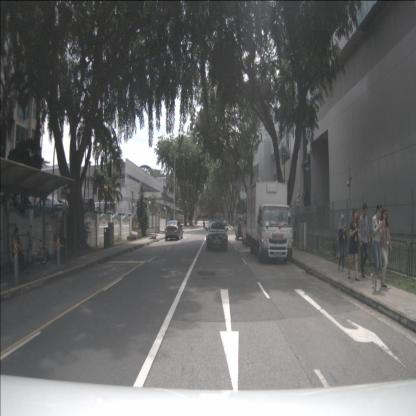human-pedestrian-adult: (370, 204, 386, 292), (379, 207, 392, 287), (348, 209, 360, 281), (359, 203, 370, 278), (12, 227, 28, 274), (338, 214, 347, 272)
vehicle-bicycle: (23, 231, 48, 265)
vehicle-car: (6, 191, 34, 218), (31, 196, 63, 218), (206, 220, 228, 252), (241, 215, 262, 247), (74, 198, 95, 218), (235, 214, 250, 240), (49, 200, 73, 216), (165, 220, 183, 241), (92, 202, 110, 216)
vehicle-motorcycle: (202, 220, 206, 229)
vehicle-truck: (247, 181, 293, 264)
